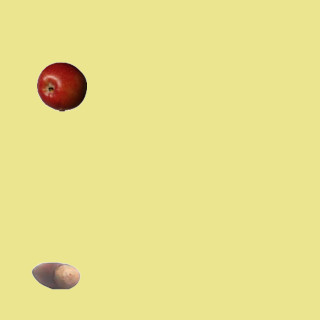Apple Braeburn: (36, 61, 86, 111)
Hazelnut: (30, 250, 80, 300)
